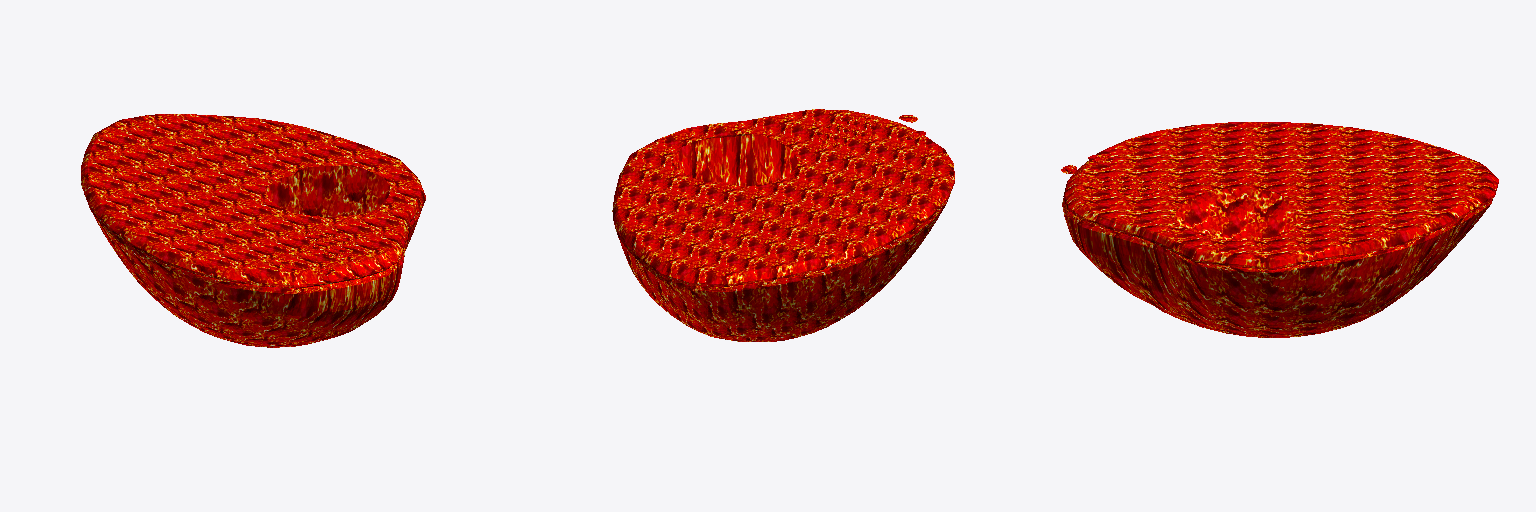
3 renders of one model, left to right at view 1: azimuth 30°, elevation 25°; view 2: azimuth 150°, elevation 25°; view 3: azimuth 270°, elevation 25°, orthographic.
Parts seen in each view (by area): view 1: mesh-9_meshId9_name; view 2: mesh-9_meshId9_name; view 3: mesh-9_meshId9_name.
Part boxes in pixels (x1,y1,x2,y2): mesh-9_meshId9_name: (81,114,425,347); mesh-9_meshId9_name: (612,109,954,341); mesh-9_meshId9_name: (1061,122,1498,337).
Bounding box in the file's own units: 288 × 132 × 381.
1 materials, 1 textured.